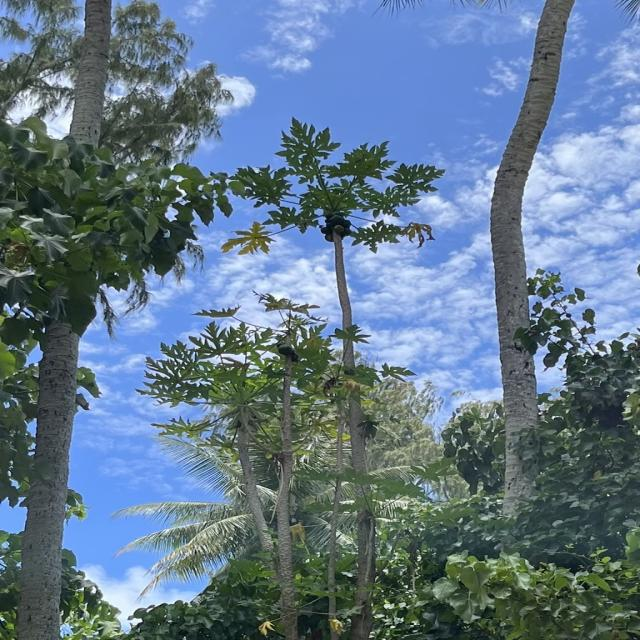Papaya-Tree: (240, 111, 450, 338)
